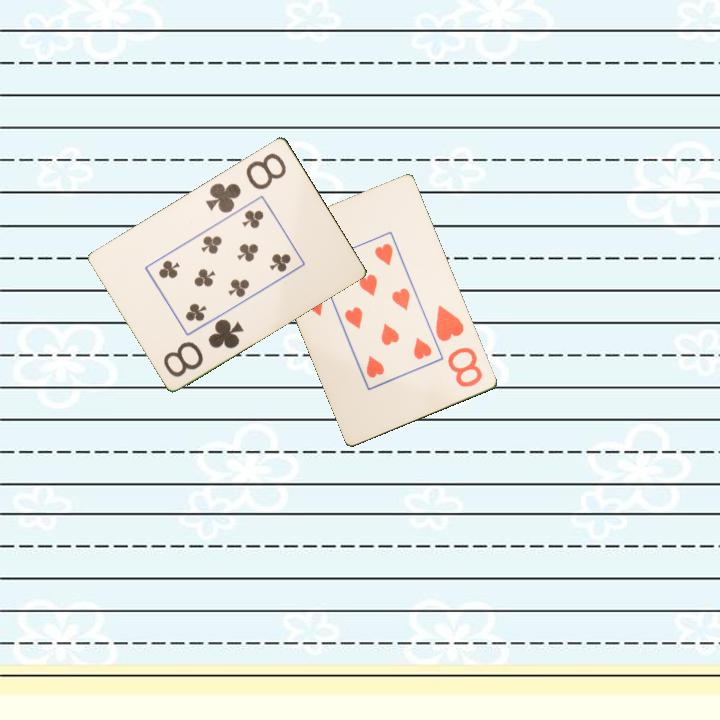8c: (202, 149, 289, 216), (160, 315, 247, 380)
8h: (432, 301, 486, 390)
